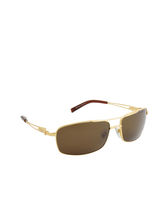glasses: (20, 95, 152, 159)
